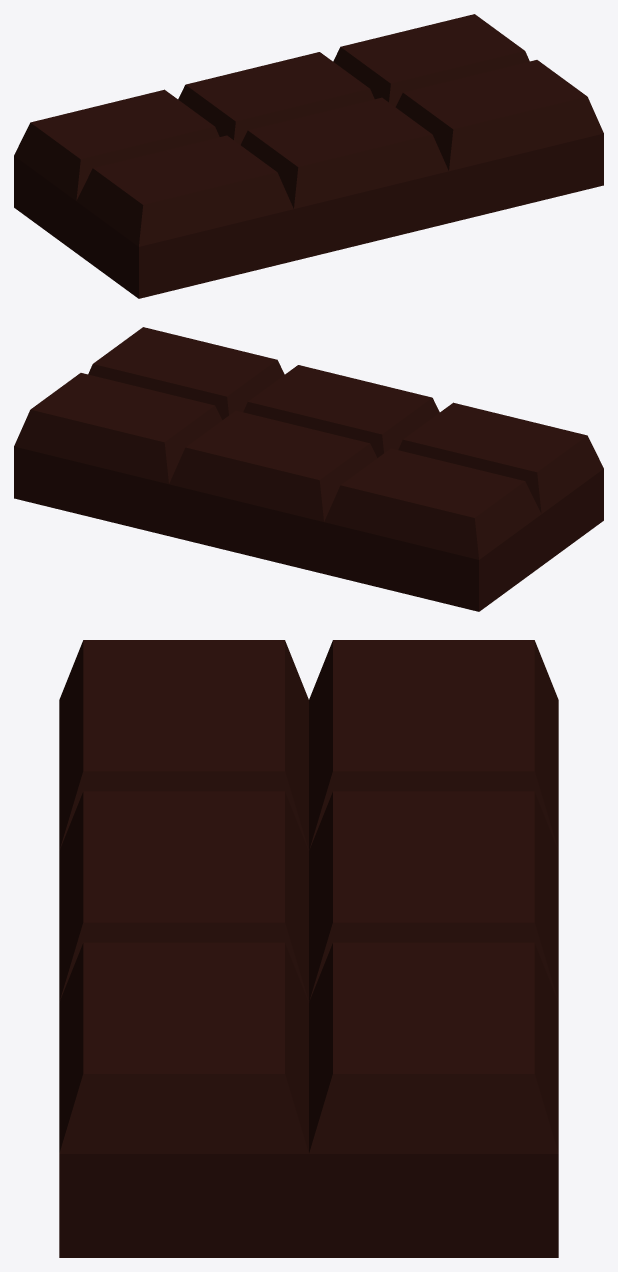
File: ThanhSoCoLa.FBX
3 views of the same model, one above another, from view 1: azimuth 30°, elevation 25°; view 2: azimuth 150°, elevation 25°; view 3: azimuth 270°, elevation 25° (orthographic). The views are drawn at different scales.
Parts seen in each view (by area): view 1: ThanhSoCoLa1; view 2: ThanhSoCoLa1; view 3: ThanhSoCoLa1.
Boxes of the visible parts, left/top/right/bottom form: ThanhSoCoLa1: left=14, top=14, right=603, bottom=298; ThanhSoCoLa1: left=14, top=327, right=603, bottom=611; ThanhSoCoLa1: left=59, top=640, right=558, bottom=1257.
Bounding box in the file's own units: 0.8012 × 0.1431 × 0.3724.
